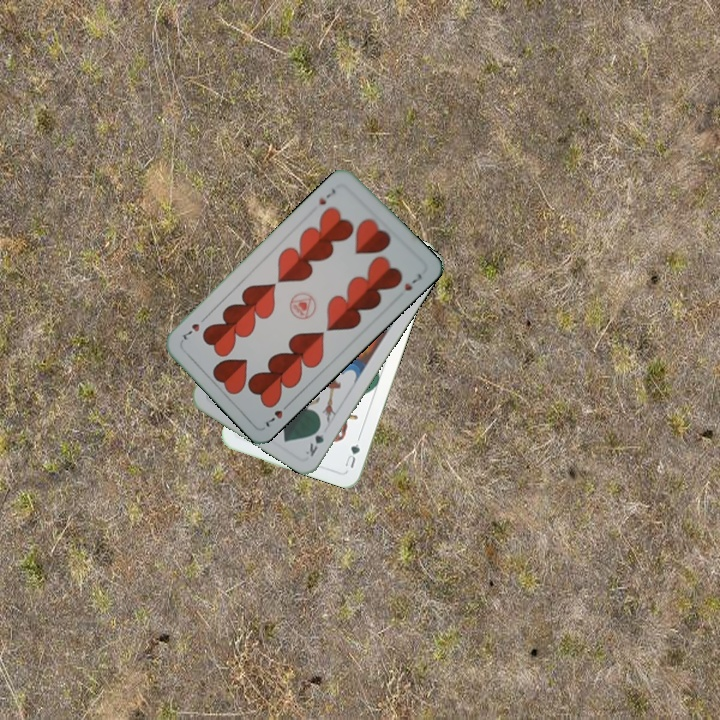GK: (301, 421, 327, 459)
GU: (341, 439, 363, 470)
H7: (261, 398, 293, 430), (315, 185, 338, 207)
